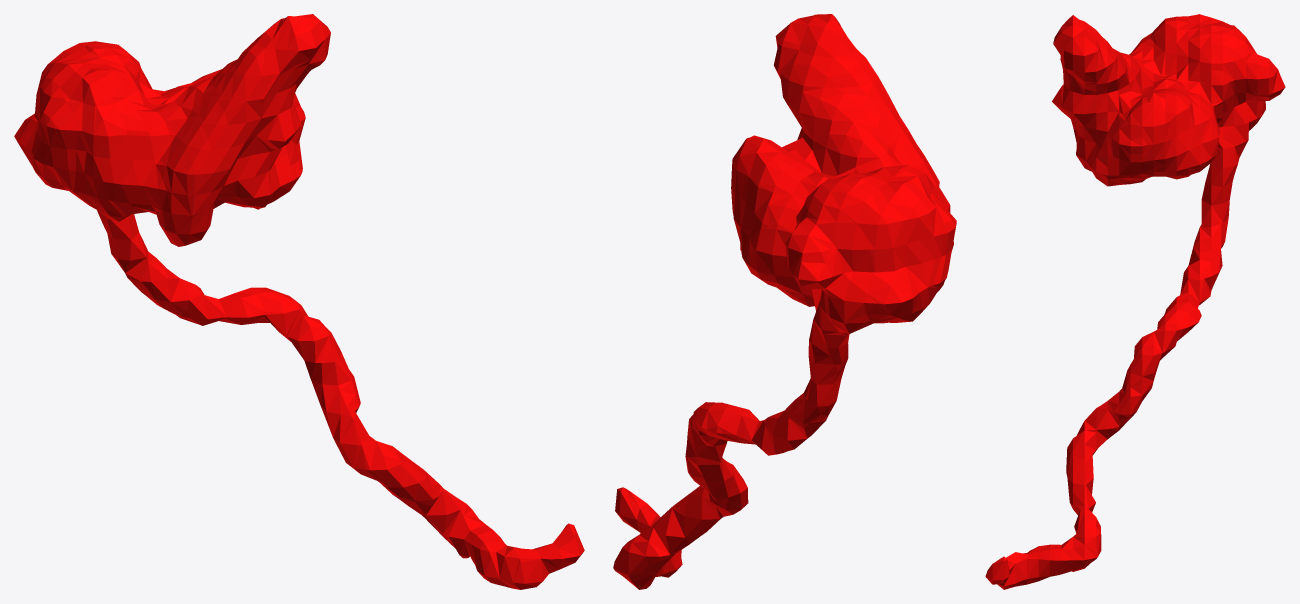
The model's file is cpxA_coarse.dae.
3 renders of one model, left to right at view 1: azimuth 30°, elevation 25°; view 2: azimuth 150°, elevation 25°; view 3: azimuth 270°, elevation 25°, orthographic. The views are drawn at different scales.
Parts seen in each view (by area): view 1: cpxA; view 2: cpxA; view 3: cpxA.
Part boxes in pixels (<box>): cpxA: <box>14,14,584,589</box>; cpxA: <box>613,14,956,589</box>; cpxA: <box>985,14,1285,589</box>.
Size of the model in its own units: 126 by 168 by 92.62.
